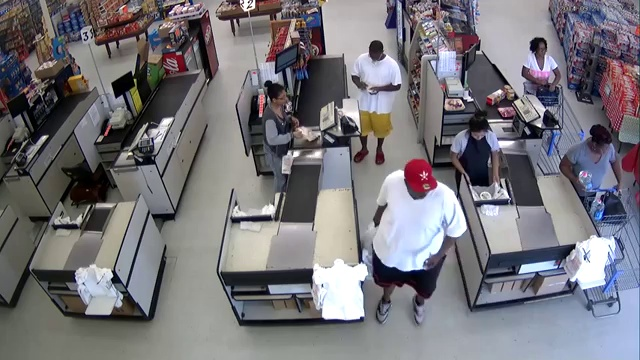face: (473, 126, 487, 141), (275, 91, 287, 107), (537, 42, 546, 56)
